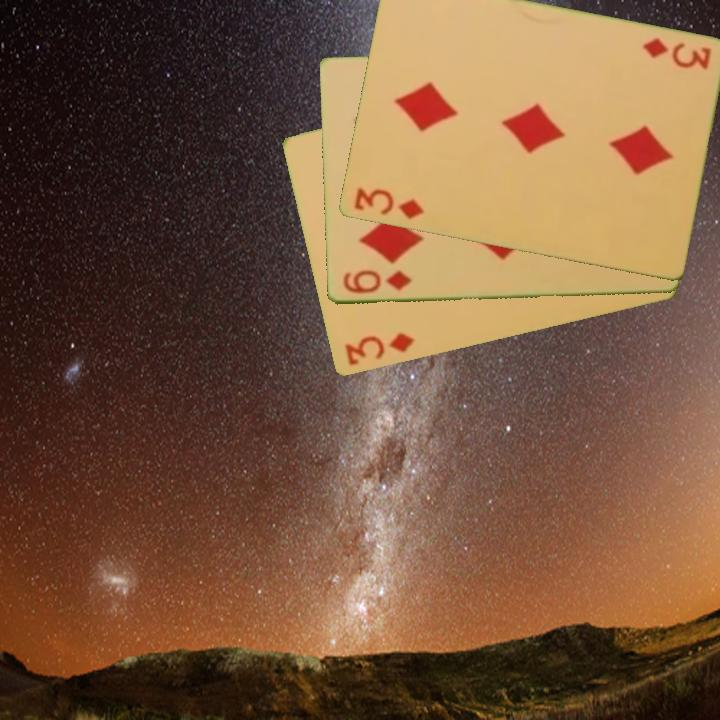3d: (340, 329, 417, 369), (350, 184, 426, 222), (638, 35, 713, 73)
6d: (339, 267, 414, 297)
